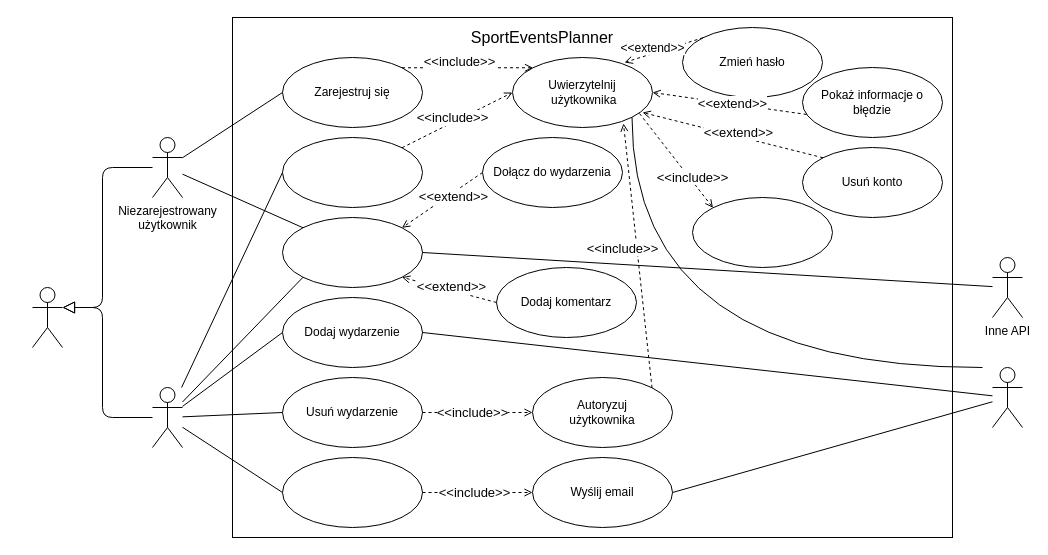
The diagram is 1048 pixels wide and 555 high, and some of its shapes have lost their labels. Each missing label, with the centre of its shape:
Firebase: (1007,397)
Przypomnij hasło: (352,492)
Użytkownik: (47,317)
Waliduj dane: (762,232)
Wyświetl wydarzenie: (352,252)
Zaloguj się: (352,172)
Zarejestrowany użytkownik: (167,417)
